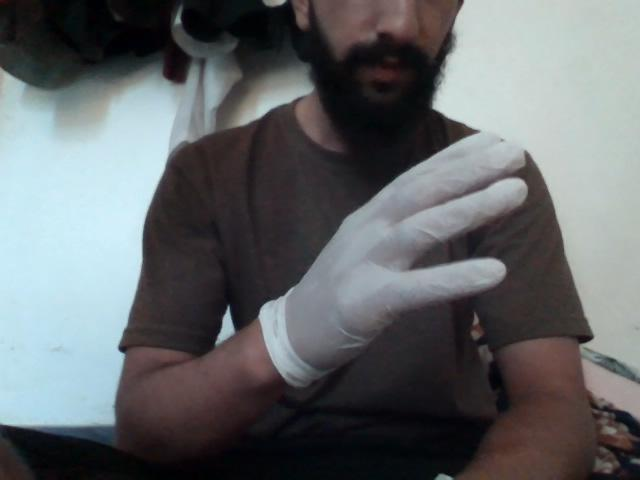gloves: (249, 131, 565, 410)
